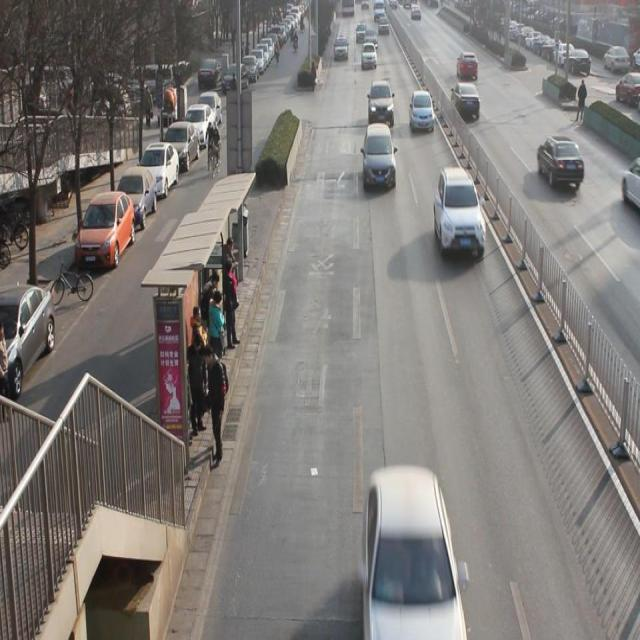car: (363, 470, 463, 625), (433, 167, 485, 261), (538, 136, 584, 195), (362, 129, 398, 196), (408, 88, 437, 138), (366, 82, 396, 127), (451, 82, 482, 124), (457, 54, 478, 78), (333, 36, 350, 65), (360, 45, 378, 69)
